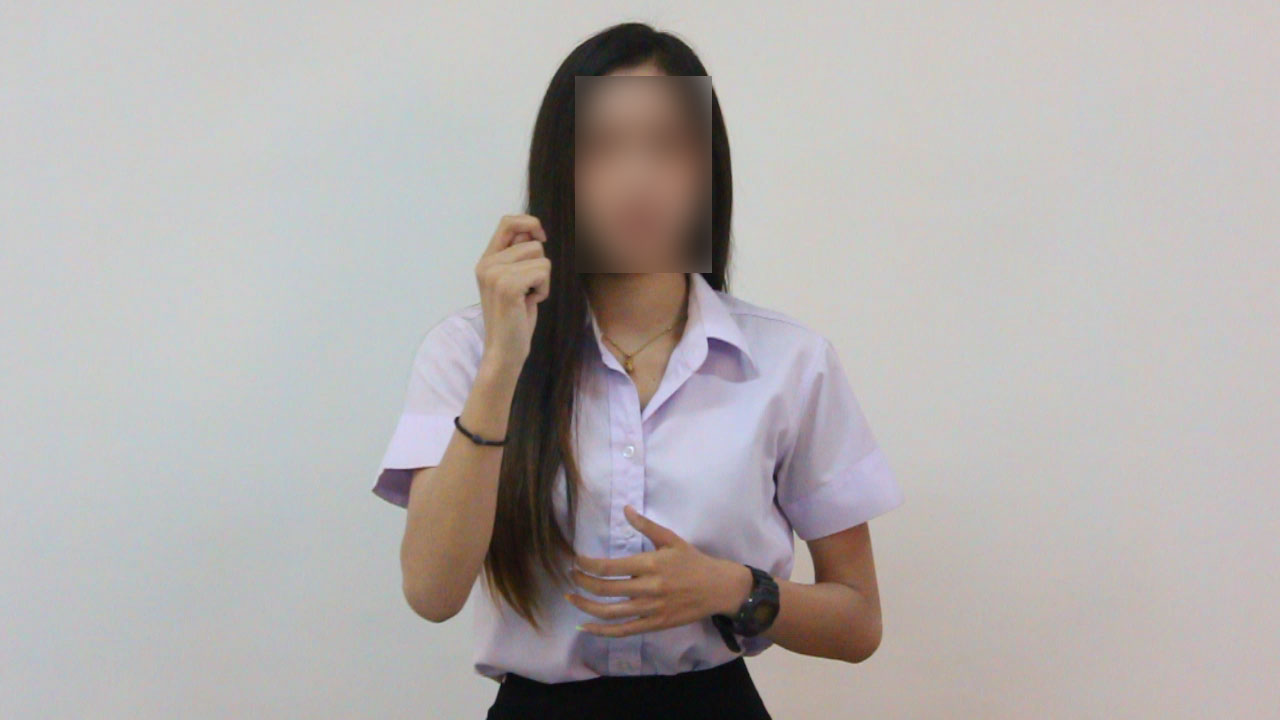or: (467, 211, 556, 374)
